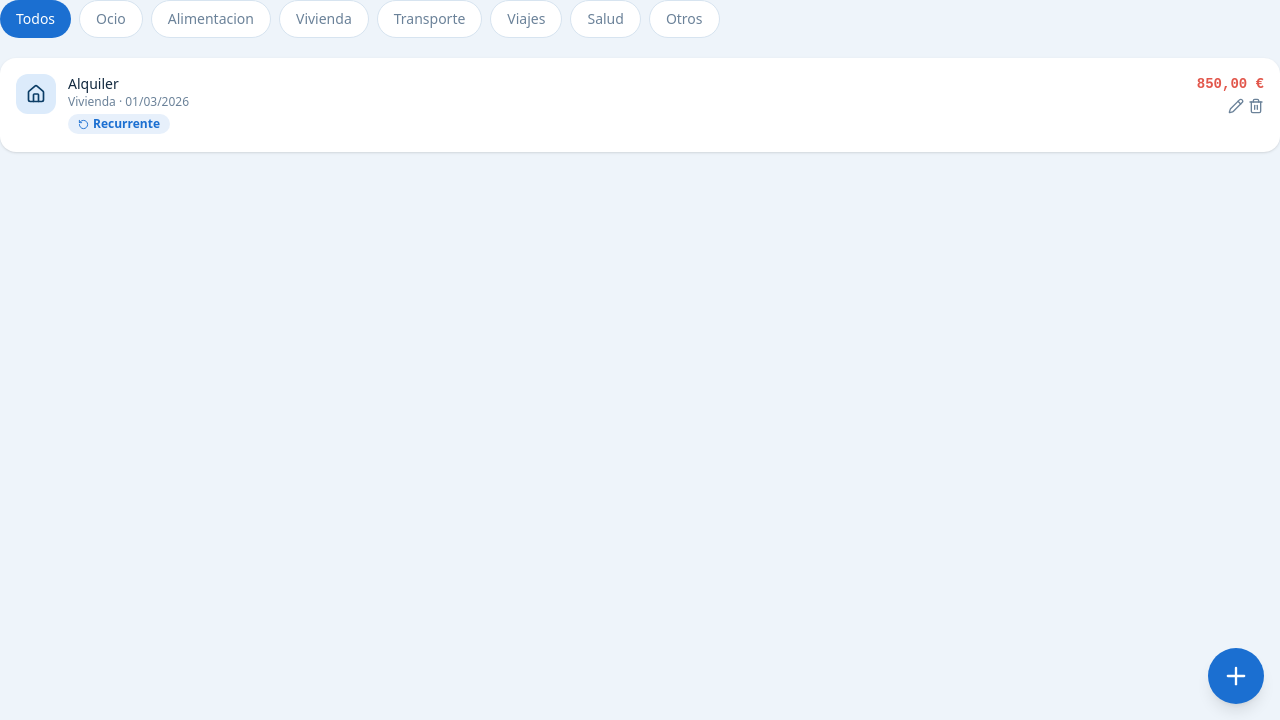
it: GastosList › comportamiento común a las dos áreas › muestra el error dentro del diálogo si el borrado se rechaza
The image size is (1280, 720).
Click the button named "Eliminar": (1256, 106) [1248, 98, 1264, 114]
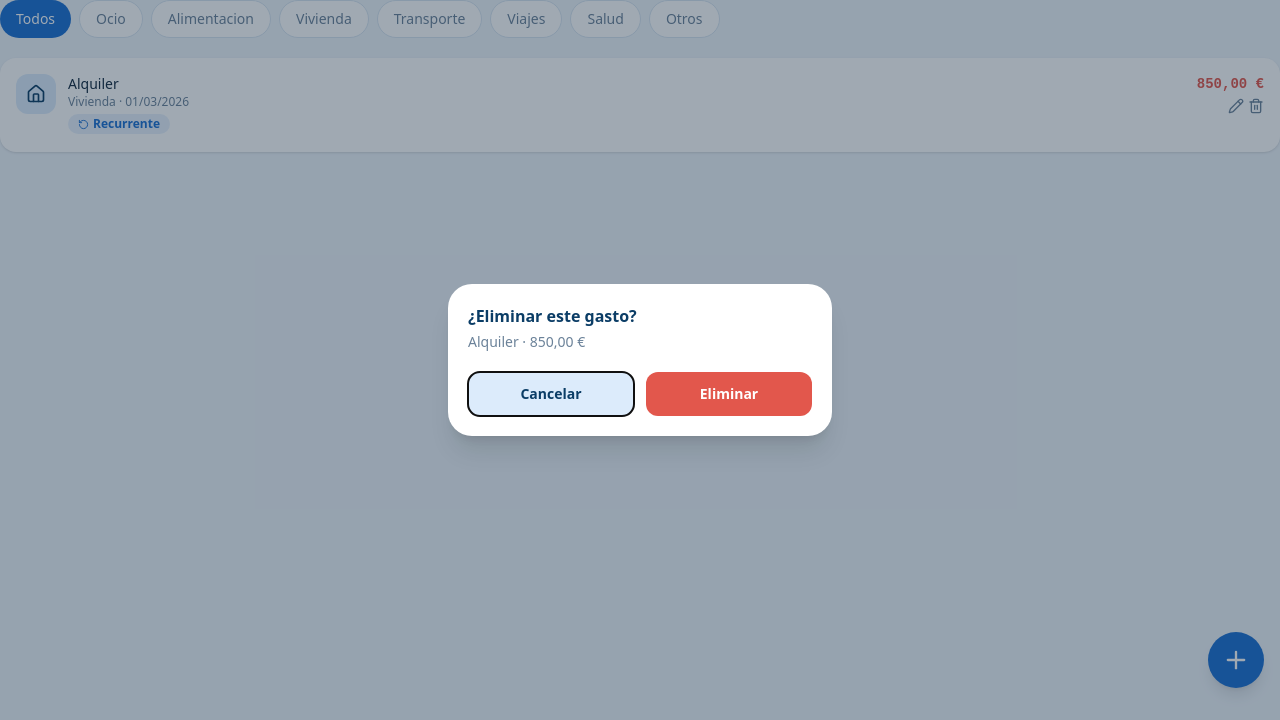
Click the button "Eliminar": (729, 394) [646, 372, 812, 416]
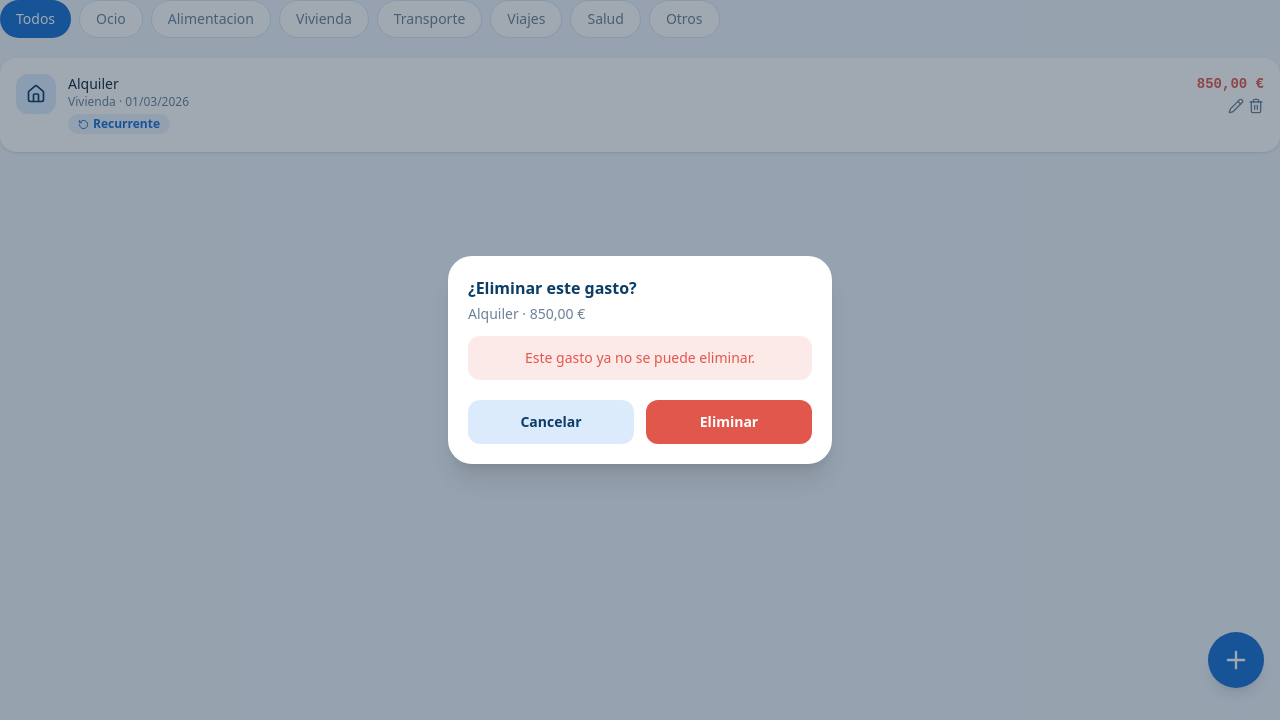
Expected: the dialog is shown, [448, 256, 832, 464]
Expected: the text "Este gasto ya no se puede eliminar." is shown, [468, 336, 812, 380]
